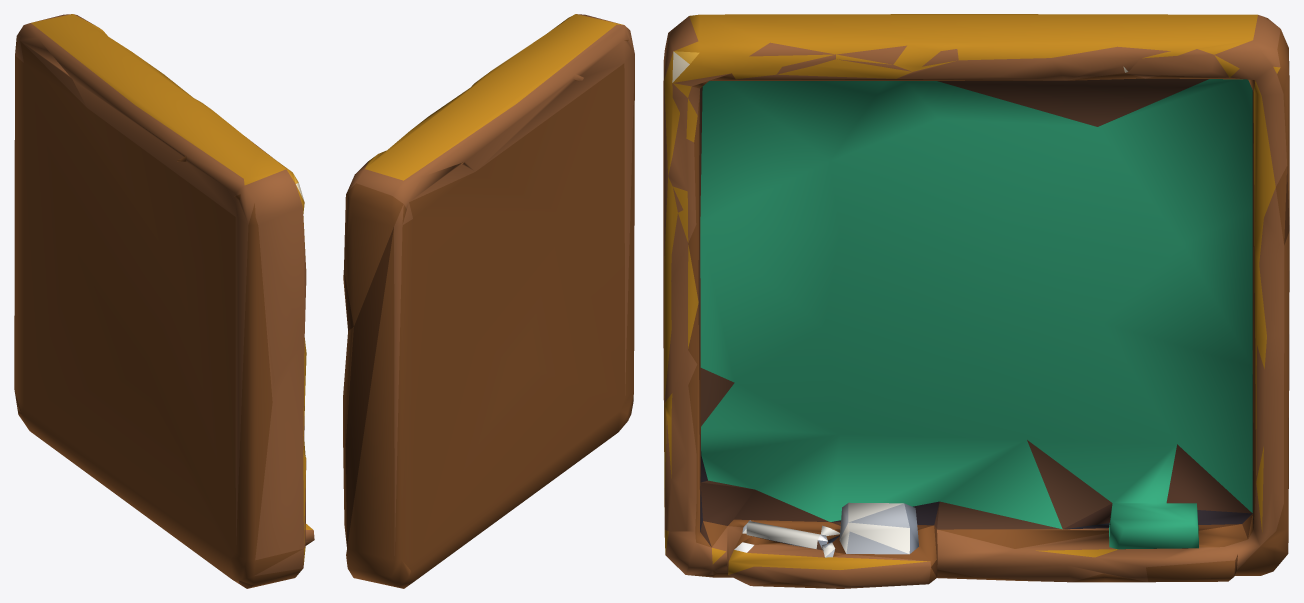
Rendered from SM_chalkboard_easel.glb.
3 renders of one model, left to right at view 1: azimuth 30°, elevation 25°; view 2: azimuth 150°, elevation 25°; view 3: azimuth 270°, elevation 25°, orthographic. The views are drawn at different scales.
Visible parts, largest first — view 1: SM_chalkboard_easel; view 2: SM_chalkboard_easel; view 3: SM_chalkboard_easel.
Part boxes in pixels (x1=…): SM_chalkboard_easel: x1=14, y1=14, x2=314, y2=588; SM_chalkboard_easel: x1=343, y1=14, x2=634, y2=588; SM_chalkboard_easel: x1=663, y1=14, x2=1289, y2=588.
Bounding box in the file's own units: 0.3244 × 1.2 × 1.28.
Materials: 1 (1 with a texture image).
